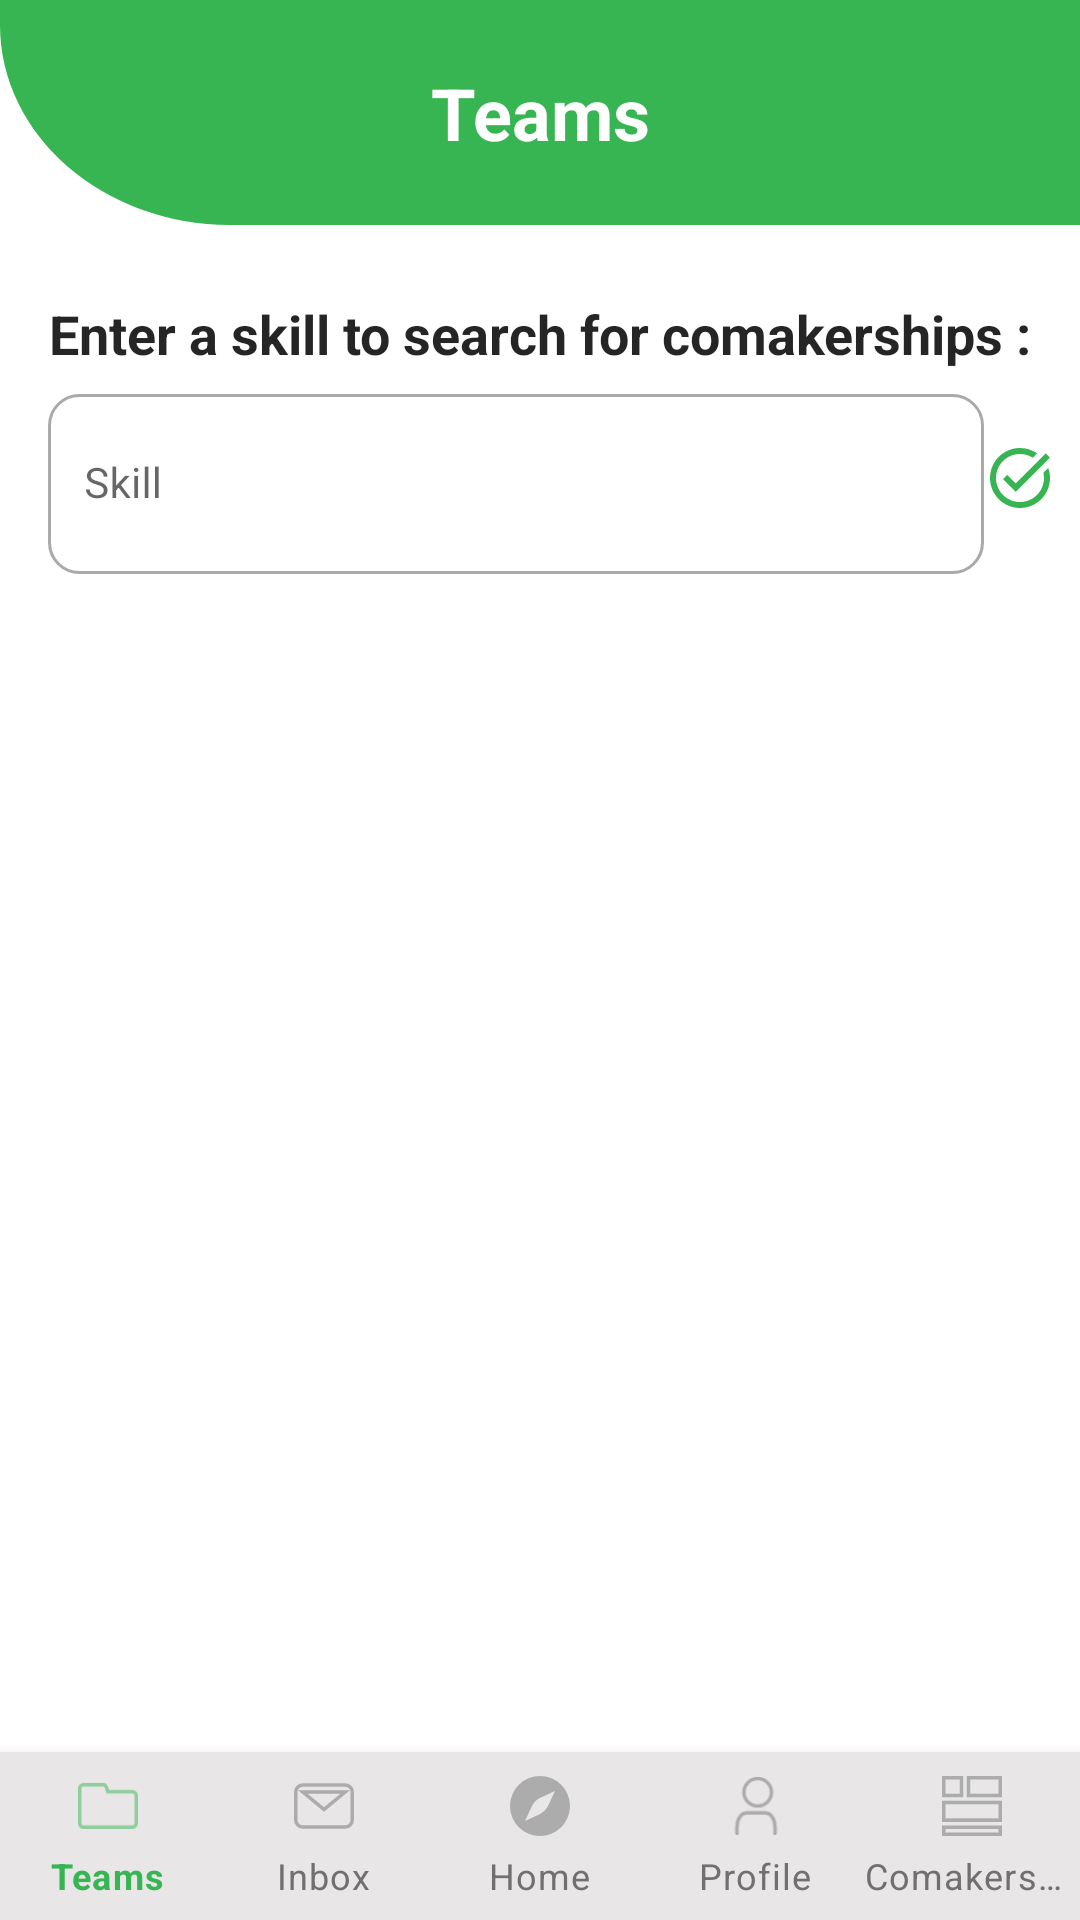

Where icons sit on this 1080px x 1920px app screen, as BBox(x1, y1, x2, y2):
task: BBox(990, 448, 1050, 508)
